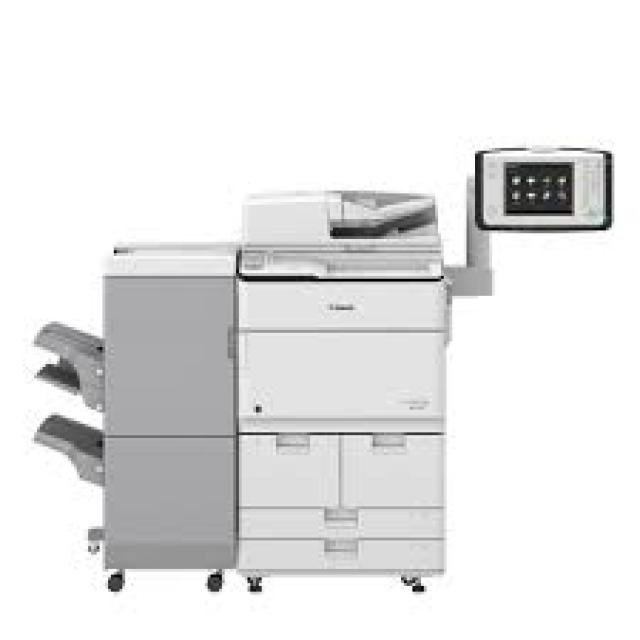printer: (29, 142, 612, 595)
